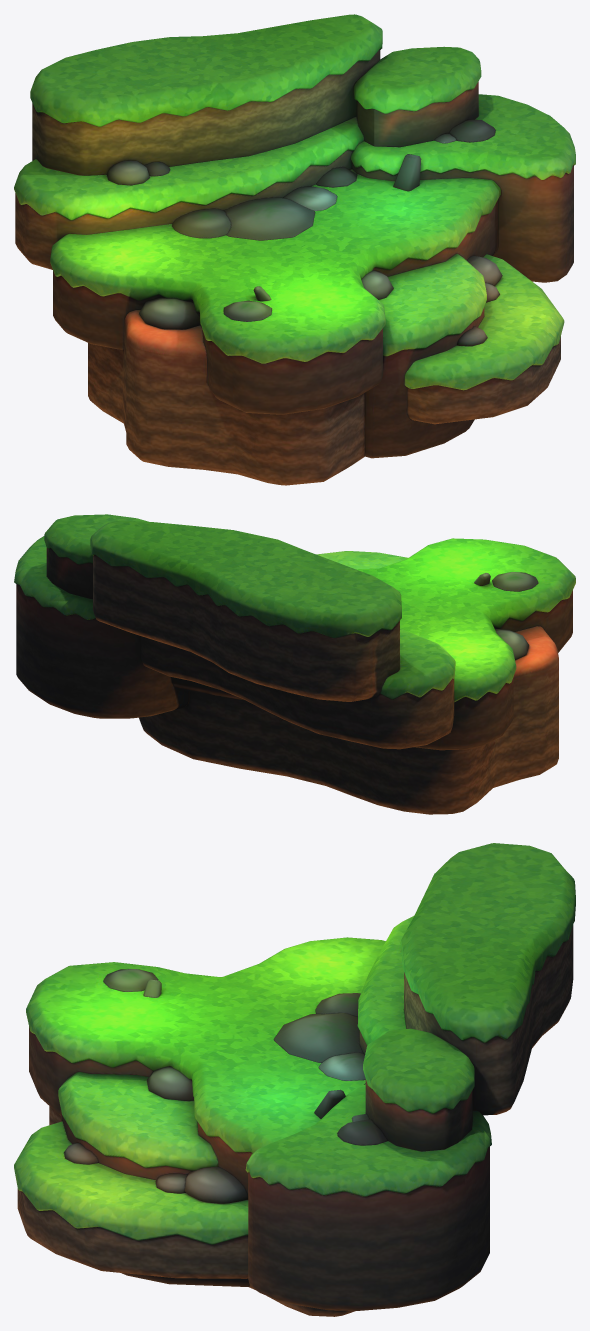
File: island.glb
The picture shows the model from 3 angles, top to bottom: view 1: azimuth 30°, elevation 25°; view 2: azimuth 150°, elevation 25°; view 3: azimuth 270°, elevation 25°; orthographic projection. The views are drawn at different scales.
Visible parts, largest first — view 1: Circle.023, Circle.015, Circle.028, Circle.022, Circle.018, Circle.027, Circle.025, Circle.026, Circle.017, Circle.024, Circle.029, Circle.016 (+13 smaller); view 2: Circle.015, Circle.028, Circle.022, Circle.023, Circle.017, Circle.016, Circle.018, Circle.027, Circle.025, Circle.029, Circle.021, Circle.024 (+2 smaller); view 3: Circle.023, Circle.017, Circle.028, Circle.026, Circle.025, Circle.024, Circle.020, Circle.022, Circle.029, Circle.021, Circle.018, Circle.027 (+9 smaller).
Part boxes in pixels (x1,y1,x2,y2): Circle.023: (50, 169, 500, 363); Circle.015: (88, 310, 364, 485); Circle.028: (30, 14, 382, 126); Circle.022: (32, 49, 380, 175); Circle.018: (53, 199, 498, 414); Circle.027: (14, 116, 364, 220); Circle.025: (350, 94, 575, 179); Circle.026: (404, 254, 564, 390); Circle.017: (352, 162, 573, 282); Circle.024: (379, 253, 486, 356); Circle.029: (353, 46, 481, 113); Circle.016: (15, 150, 352, 269); Circle.015: (139, 626, 558, 814); Circle.028: (90, 520, 401, 637); Circle.022: (93, 554, 399, 701); Circle.023: (356, 538, 575, 702); Circle.017: (16, 584, 189, 718); Circle.016: (140, 636, 454, 749); Circle.018: (171, 590, 572, 750); Circle.027: (380, 628, 455, 699); Circle.025: (14, 536, 95, 619); Circle.029: (44, 514, 148, 564); Circle.021: (46, 548, 92, 598); Circle.024: (316, 551, 407, 569); Circle.023: (26, 937, 385, 1152); Circle.017: (248, 1147, 489, 1310); Circle.028: (401, 843, 575, 1042); Circle.026: (14, 1121, 248, 1244); Circle.025: (245, 1084, 491, 1196); Circle.024: (58, 1072, 218, 1170); Circle.020: (17, 1189, 248, 1278); Circle.022: (404, 925, 573, 1115); Circle.029: (363, 1028, 474, 1113); Circle.021: (365, 1079, 472, 1151); Circle.018: (29, 1026, 252, 1199); Circle.027: (357, 916, 413, 1045).
Bounding box in the file's own units: 16.02 × 8.12 × 14.02.
3 materials, 3 textured.
